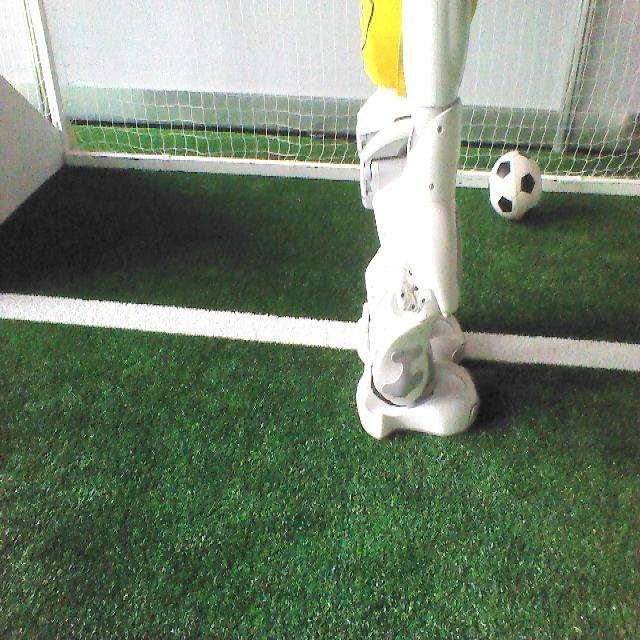ball: (490, 151, 545, 225)
